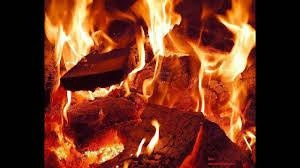fire: (184, 1, 257, 160), (133, 116, 160, 157)
